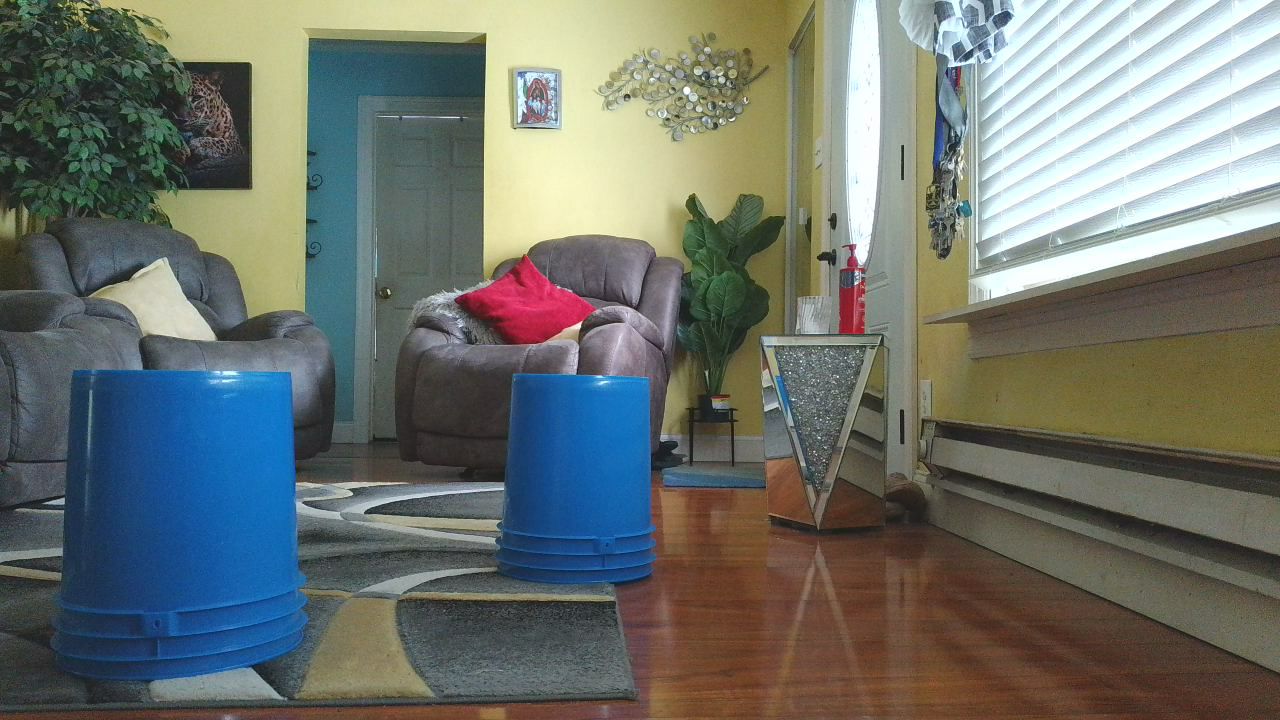blue_bucket: (49, 370, 321, 693), (491, 373, 673, 597)
